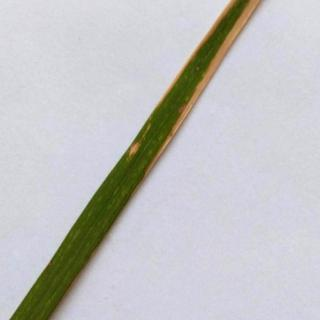Blast: (124, 128, 144, 168)
